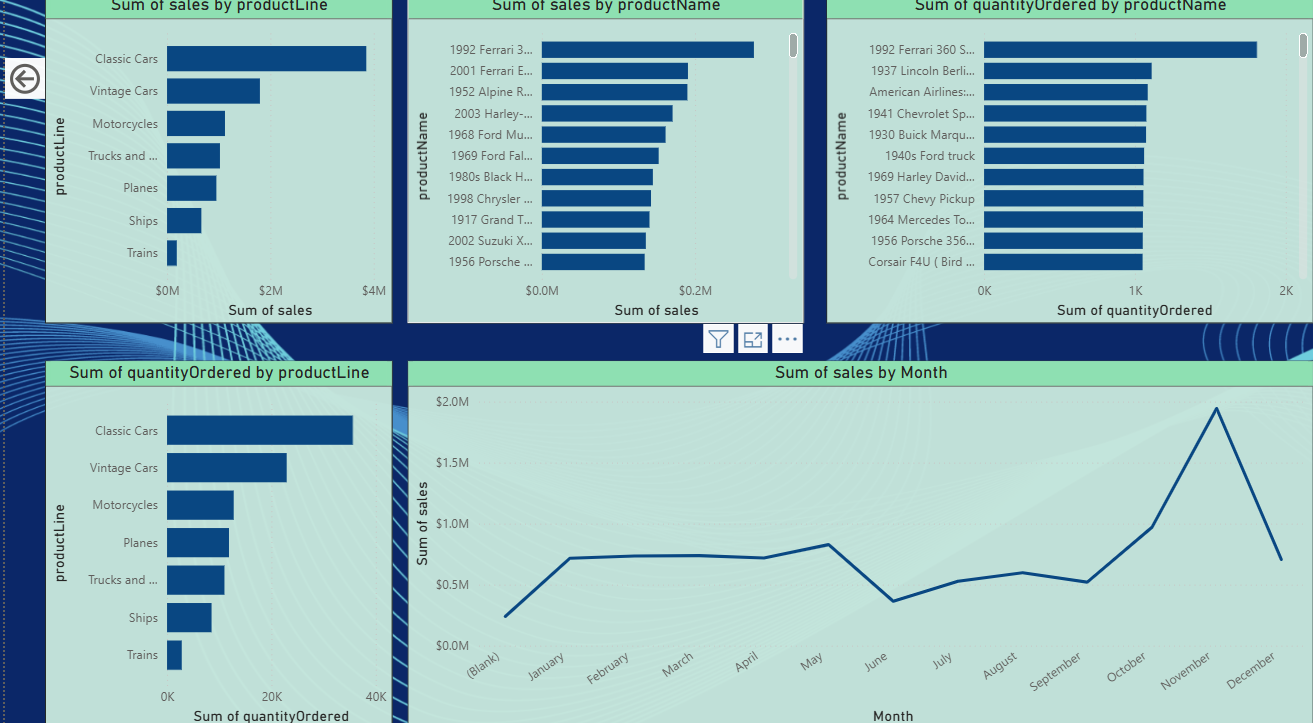

The page's visual inventory and layout, read from the dashboard file:
{"tool":"powerbi","page":{"name":"Page 2","canvas":[1280,720],"ordinal":2},"visuals":[{"type":"barChart","fields":{"Y":["Sum(order_details.sales)"],"Category":["products.productLine"]},"box":[39.1,0,339.9,322.8],"z":0},{"type":"barChart","fields":{"Y":["Sum(order_details.sales)"],"Category":["products.productName"]},"box":[393.8,0,387.6,322.8],"z":1000},{"type":"barChart","fields":{"Category":["products.productLine"],"Y":["Sum(order_details.quantityOrdered)"]},"box":[39.1,359.5,339.9,360.7],"z":2000},{"type":"barChart","fields":{"Y":["Sum(order_details.quantityOrdered)"],"Category":["products.productName"]},"box":[803.4,0,476.9,322.8],"z":3000},{"type":"lineChart","fields":{"Category":["orders.orderDate.Variation.Date Hierarchy.Year","orders.orderDate.Variation.Date Hierarchy.Quarter","orders.orderDate.Variation.Date Hierarchy.Month","orders.orderDate.Variation.Date Hierarchy.Day"],"Y":["Sum(order_details.sales)"]},"box":[393.8,359.5,886.6,360.7],"z":4000},{"type":"actionButton","box":[0,63.6,39.1,40.4],"z":5000}]}

Visuals, with their boxes in screenshot pixels (x1, y1, x2, y2), scaled from the page's 1280x720 canvas onto the 1313x723 screenshot:
barChart - Sum(order_details.sales) x products.productLine: Rect(40, 0, 389, 324)
barChart - Sum(order_details.sales) x products.productName: Rect(404, 0, 802, 324)
barChart - products.productLine x Sum(order_details.quantityOrdered): Rect(40, 361, 389, 722)
barChart - Sum(order_details.quantityOrdered) x products.productName: Rect(824, 0, 1312, 324)
lineChart - orders.orderDate.Variation.Date Hierarchy.Year x orders.orderDate.Variation.Date Hierarchy.Quarter: Rect(404, 361, 1312, 722)
actionButton: Rect(0, 64, 40, 104)
